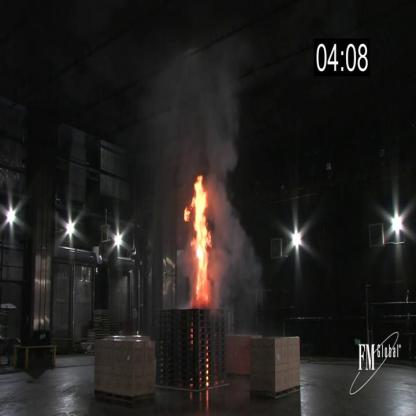fire: (180, 171, 218, 311)
